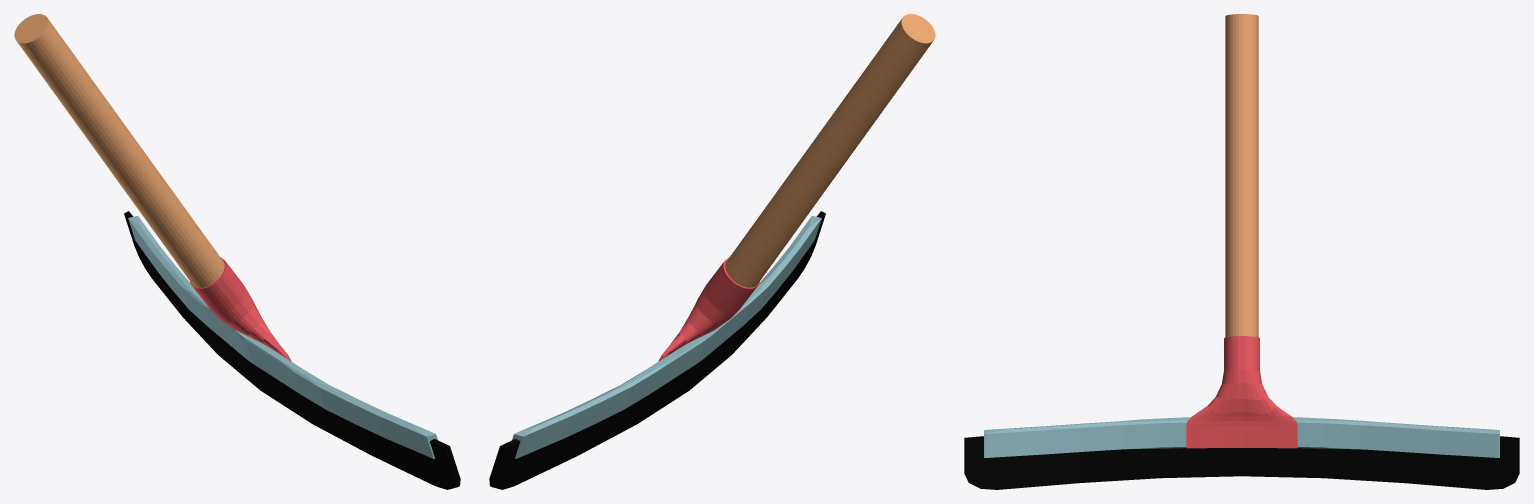
The model's file is squeegee.fbx.
3 views of the same model, side by side, from view 1: azimuth 30°, elevation 25°; view 2: azimuth 150°, elevation 25°; view 3: azimuth 270°, elevation 25° (orthographic). The views are drawn at different scales.
Parts seen in each view (by area): view 1: handdle_low, MetalConnector_low, rubber_low, connector_low; view 2: handdle_low, MetalConnector_low, rubber_low, connector_low; view 3: rubber_low, MetalConnector_low, handdle_low, connector_low.
Part boxes in pixels (x1,y1,x2,y2): handdle_low: [14, 14, 224, 287]; MetalConnector_low: [128, 216, 437, 458]; rubber_low: [124, 211, 460, 489]; connector_low: [190, 257, 291, 361]; handdle_low: [725, 14, 935, 287]; MetalConnector_low: [512, 216, 821, 458]; rubber_low: [489, 211, 825, 489]; connector_low: [658, 257, 759, 361]; rubber_low: [964, 436, 1519, 489]; MetalConnector_low: [984, 417, 1499, 457]; handdle_low: [1225, 14, 1258, 337]; connector_low: [1186, 336, 1297, 448].
Bounding box in the file's own units: 1006 × 1443 × 1964.
